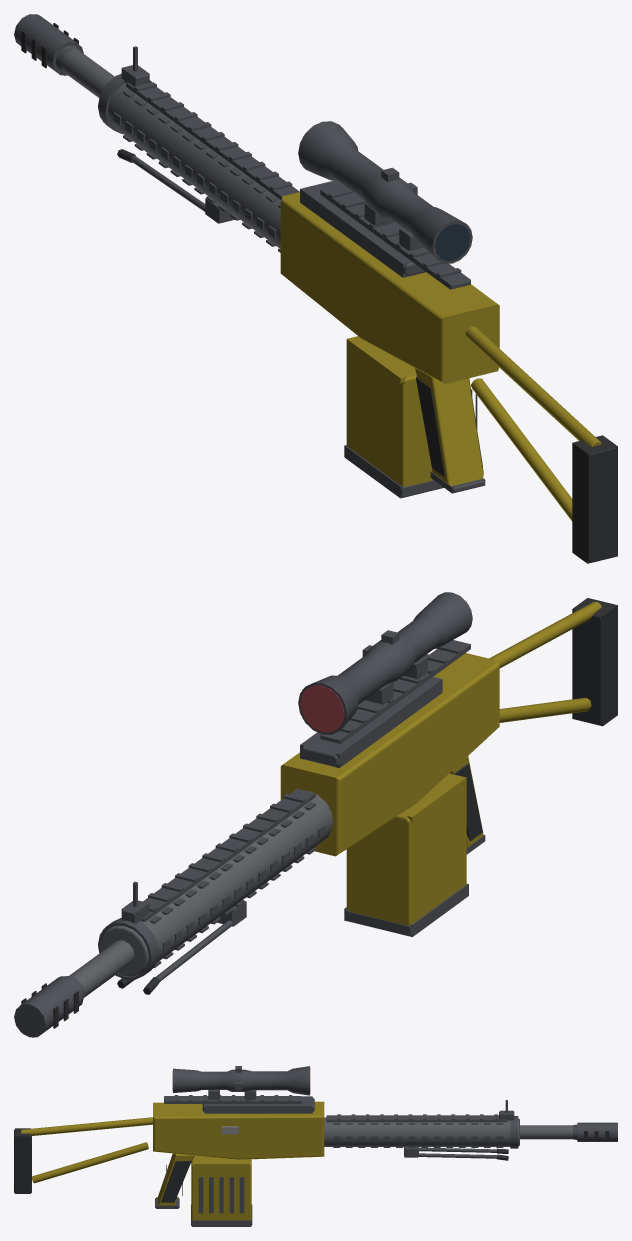
Rendered from l_anchor.glb.
The picture shows the model from 3 angles, top to bottom: view 1: azimuth 30°, elevation 25°; view 2: azimuth 150°, elevation 25°; view 3: azimuth 270°, elevation 25°; orthographic projection. The views are drawn at different scales.
Parts seen in each view (by area): view 1: L0, L1; view 2: L0, L1; view 3: L0, L1.
Boxes of the visible parts, x1=… form: L0: x1=14, y1=14, x2=617, y2=562; L1: x1=15, y1=15, x2=617, y2=563; L0: x1=14, y1=592, x2=617, y2=1037; L1: x1=14, y1=592, x2=617, y2=1037; L0: x1=14, y1=1066, x2=617, y2=1225; L1: x1=15, y1=1066, x2=617, y2=1226.
Bounding box in the file's own units: 0.073 × 0.2915 × 1.06.
